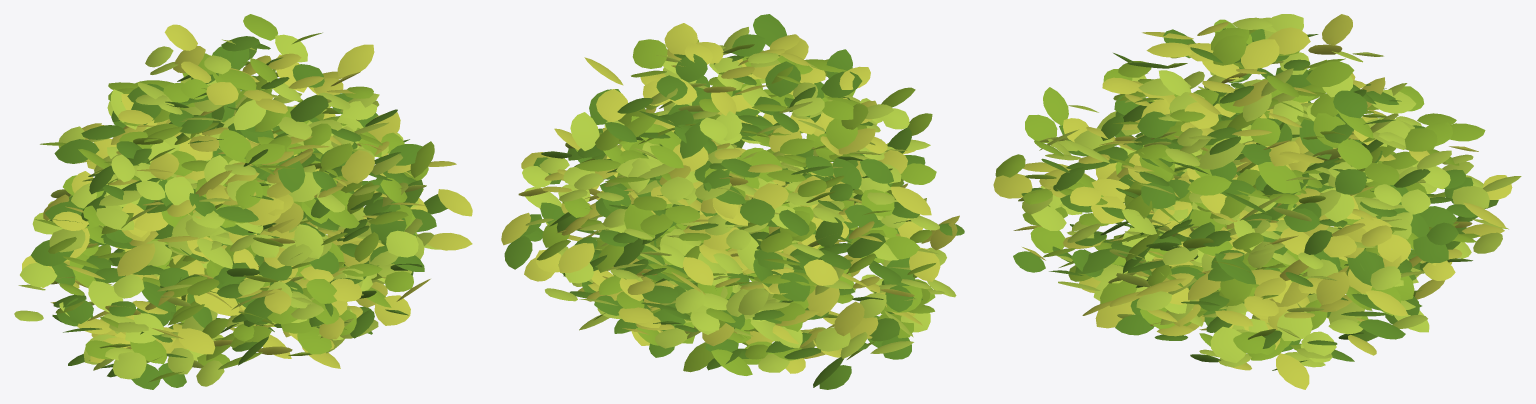
File: TreeCanopy.fbx
3 renders of one model, left to right at view 1: azimuth 30°, elevation 25°; view 2: azimuth 150°, elevation 25°; view 3: azimuth 270°, elevation 25°, orthographic. The views are drawn at different scales.
Parts seen in each view (by area): view 1: Full sunlit canopy; view 2: Full sunlit canopy; view 3: Full sunlit canopy.
Part boxes in pixels (x1=…): Full sunlit canopy: x1=14, y1=14, x2=472, y2=389; Full sunlit canopy: x1=501, y1=14, x2=964, y2=389; Full sunlit canopy: x1=993, y1=14, x2=1521, y2=389.
Bounding box in the file's own units: 3.15 × 2.18 × 3.24.
